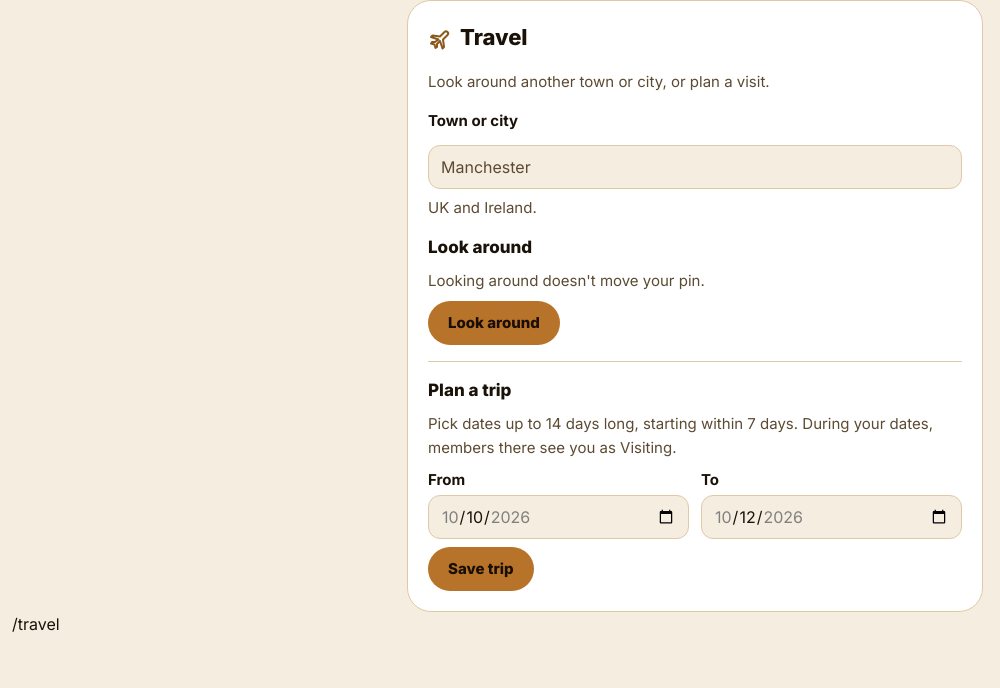
Test case: TravelSheet › checks dates before saving: 7 days ahead, 14 days long
Step 1. Type "Leeds" into the field with test id "travel-city" → (695, 167), box [428,145,962,189]
Step 2. Type "2026-10-18" into the date field with test id "travel-start" → (558, 517), box [428,495,689,539]
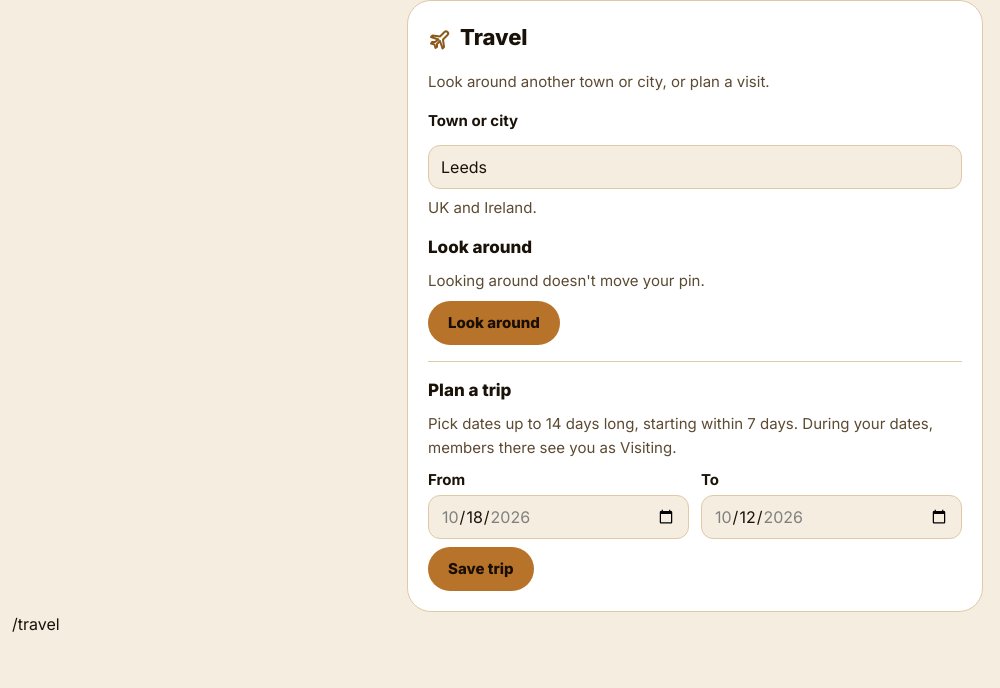
Step 3. Type "2026-10-19" into the date field with test id "travel-end" → (832, 517), box [701,495,962,539]
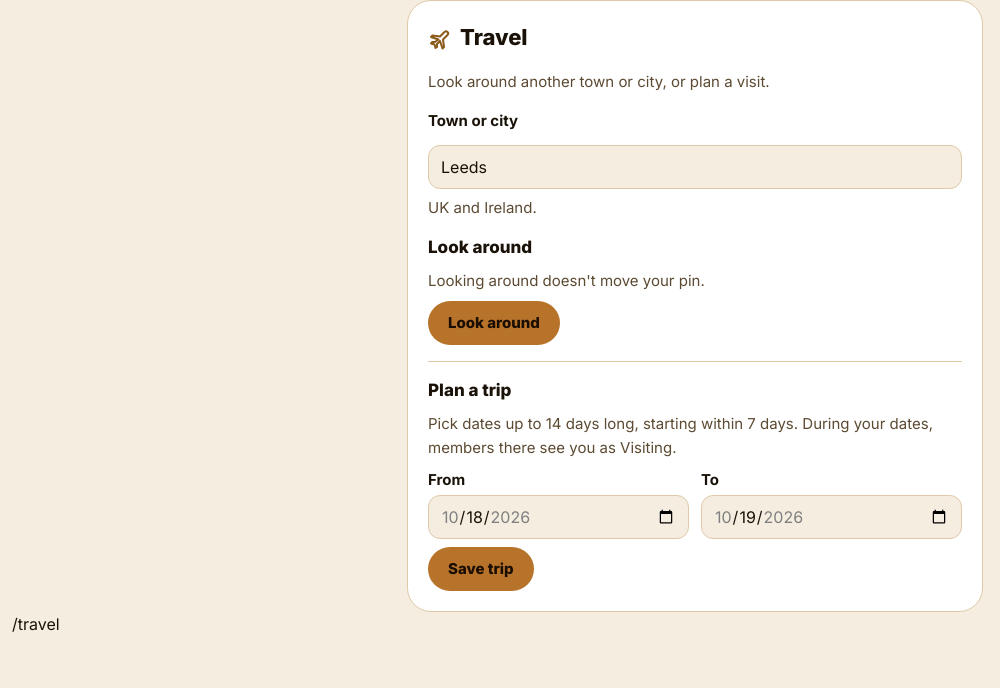
Step 4. Click the button with test id "travel-save-trip" → (481, 569), box [428,547,534,591]
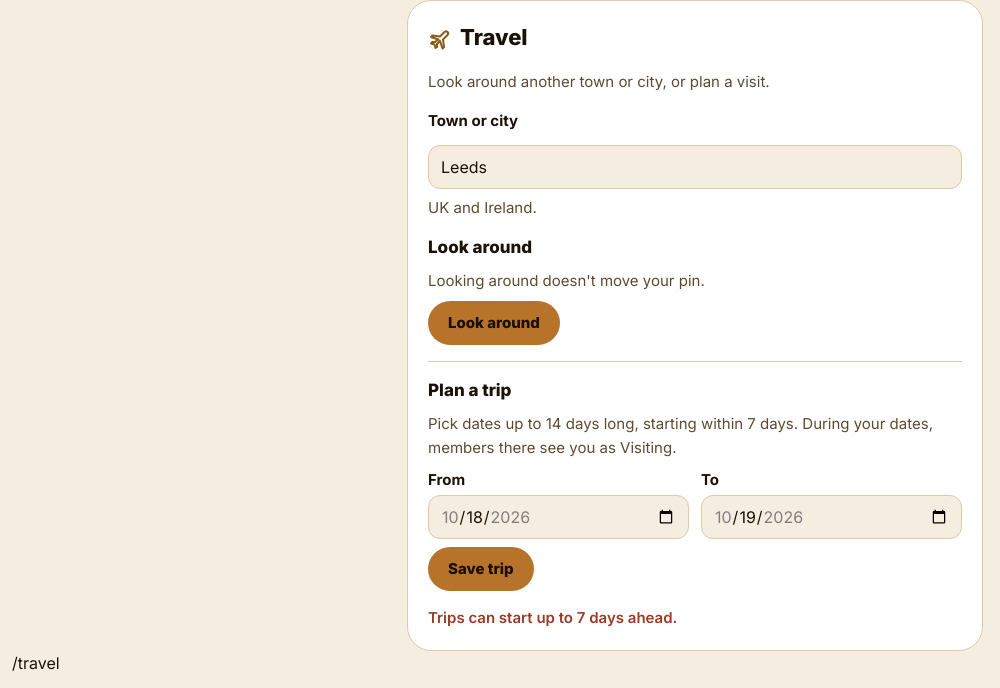
Now the message with test id "travel-error" reads "Trips can start up to 7 days ahead.", box [428,608,677,627]
Step 5. Type "2026-10-10" into the date field with test id "travel-start" → (558, 517), box [428,495,689,539]
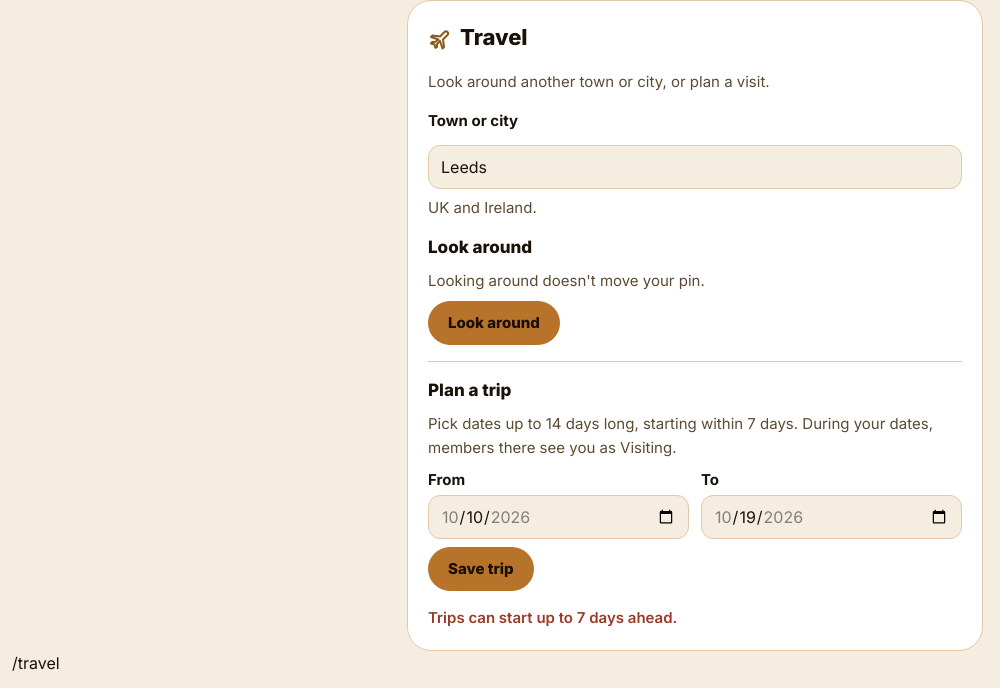
Step 6. Type "2026-10-24" into the date field with test id "travel-end" → (832, 517), box [701,495,962,539]
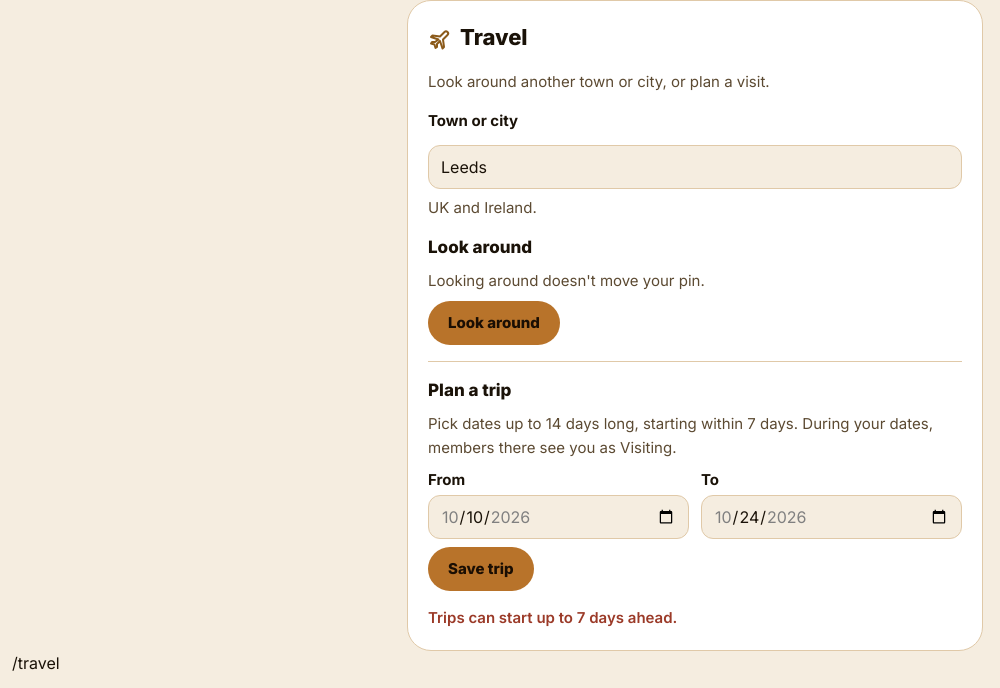
Step 7. Click the button with test id "travel-save-trip" → (481, 569), box [428,547,534,591]
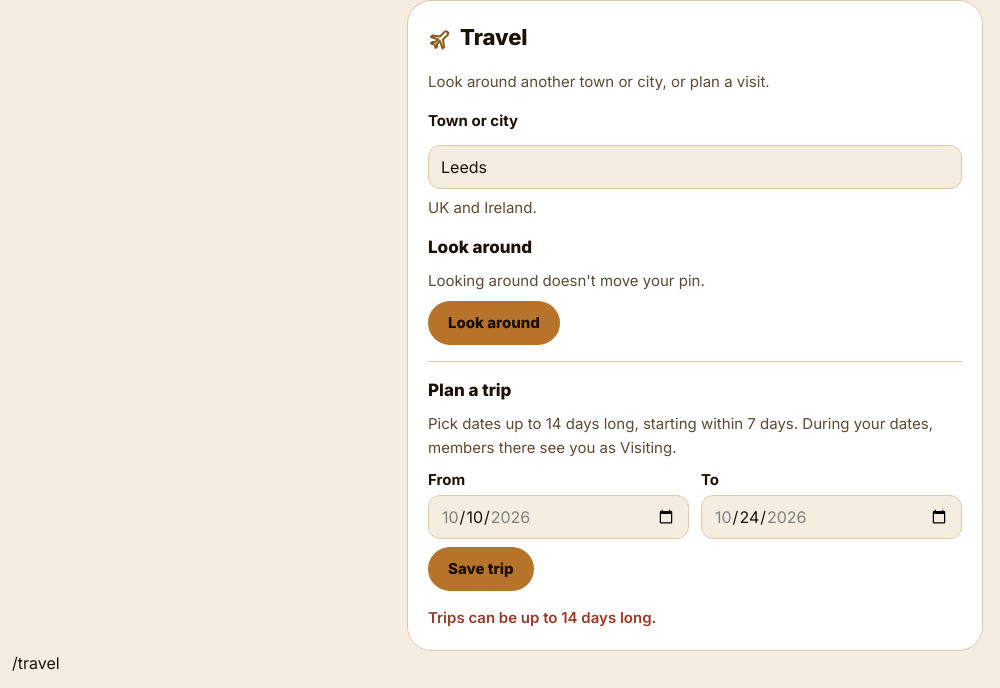
Now the message with test id "travel-error" reads "Trips can be up to 14 days long.", box [428,608,656,627]
